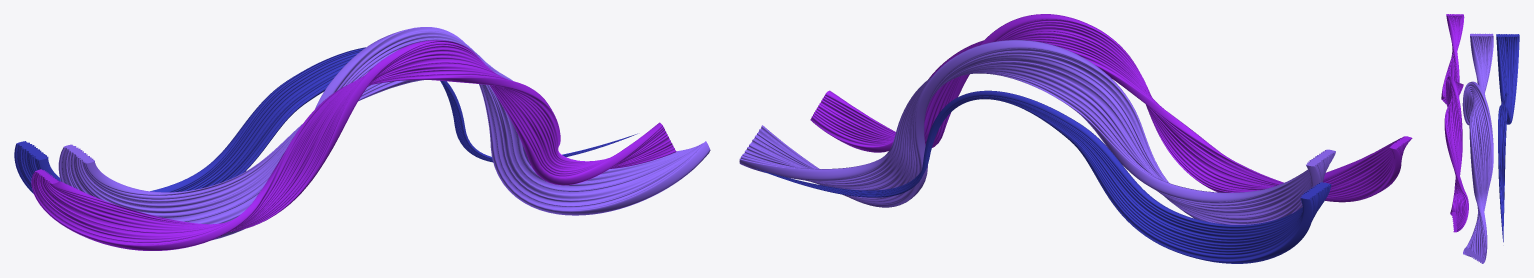
3 renders of one model, left to right at view 1: azimuth 30°, elevation 25°; view 2: azimuth 150°, elevation 25°; view 3: azimuth 270°, elevation 25°, orthographic. The views are drawn at different scales.
Visible parts, largest first — view 1: Path 5, Path, Path 2; view 2: Path, Path 5, Path 2; view 3: Path, Path 5, Path 2.
Part boxes in pixels (<box>): Path 5: <box>31,40,676,250</box>; Path: <box>58,27,710,240</box>; Path 2: <box>14,47,637,193</box>; Path: <box>739,40,1335,224</box>; Path 5: <box>810,14,1412,202</box>; Path 2: <box>756,90,1331,263</box>; Path: <box>1462,33,1493,263</box>; Path 5: <box>1441,14,1468,232</box>; Path 2: <box>1496,34,1519,242</box>.
Bounding box in the file's own units: 21.91 × 7.1 × 4.33.
